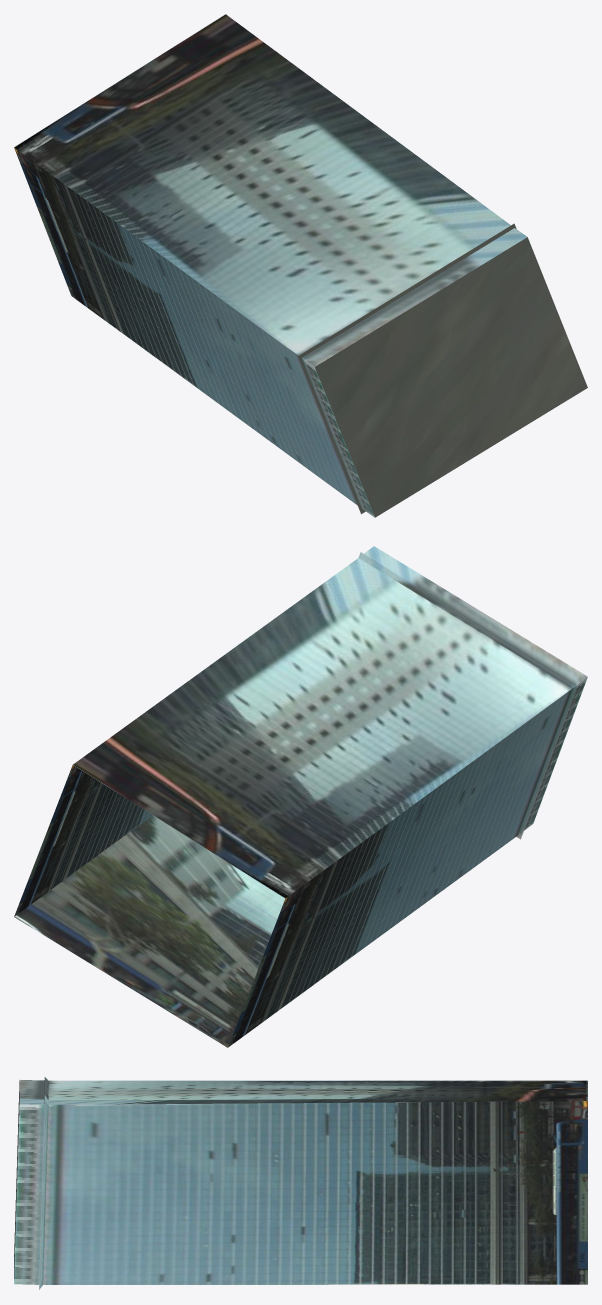
The picture shows the model from 3 angles, top to bottom: view 1: azimuth 30°, elevation 25°; view 2: azimuth 150°, elevation 25°; view 3: azimuth 270°, elevation 25°; orthographic projection. The views are drawn at different scales.
Visible parts, largest first — view 1: IndexedFaceSet__2_0, IndexedFaceSet__10_0, IndexedFaceSet, IndexedFaceSet__14_0, IndexedFaceSet__5_0, IndexedFaceSet__13_0; view 2: IndexedFaceSet__2_0, IndexedFaceSet__3_0, IndexedFaceSet, IndexedFaceSet__1_0, IndexedFaceSet__14_0, IndexedFaceSet__9_0, IndexedFaceSet__13_0, IndexedFaceSet__6_0; view 3: IndexedFaceSet__1_0, IndexedFaceSet__2_0, IndexedFaceSet__11_0, IndexedFaceSet__8_0, IndexedFaceSet__14_0.
Part boxes in pixels (x1,y1,x2,y2): IndexedFaceSet__2_0: (14,14,510,355); IndexedFaceSet__10_0: (315,237,587,517); IndexedFaceSet: (14,148,357,505); IndexedFaceSet__14_0: (302,228,527,366); IndexedFaceSet__5_0: (298,223,516,514); IndexedFaceSet__13_0: (302,358,374,517); IndexedFaceSet__2_0: (73,558,571,898); IndexedFaceSet__3_0: (14,815,285,1047); IndexedFaceSet: (228,689,571,1047); IndexedFaceSet__1_0: (14,765,152,916); IndexedFaceSet__14_0: (364,546,587,684); IndexedFaceSet__9_0: (358,552,577,688); IndexedFaceSet__13_0: (524,677,587,830); IndexedFaceSet__6_0: (517,685,577,839); IndexedFaceSet__1_0: (43,1101,587,1284); IndexedFaceSet__2_0: (48,1080,587,1104); IndexedFaceSet__11_0: (14,1104,44,1284); IndexedFaceSet__8_0: (39,1101,48,1289); IndexedFaceSet__14_0: (19,1080,44,1104).
Size of the model in its own units: 51.28 by 44.34 by 97.49.
14 materials, 14 textured.
